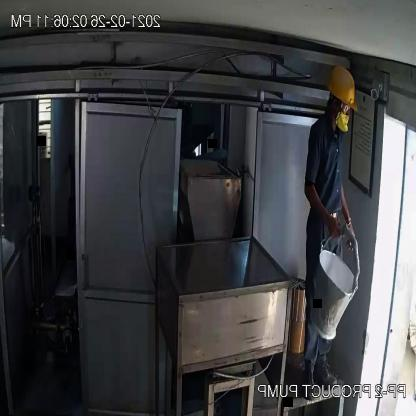helmet: (326, 64, 364, 115)
